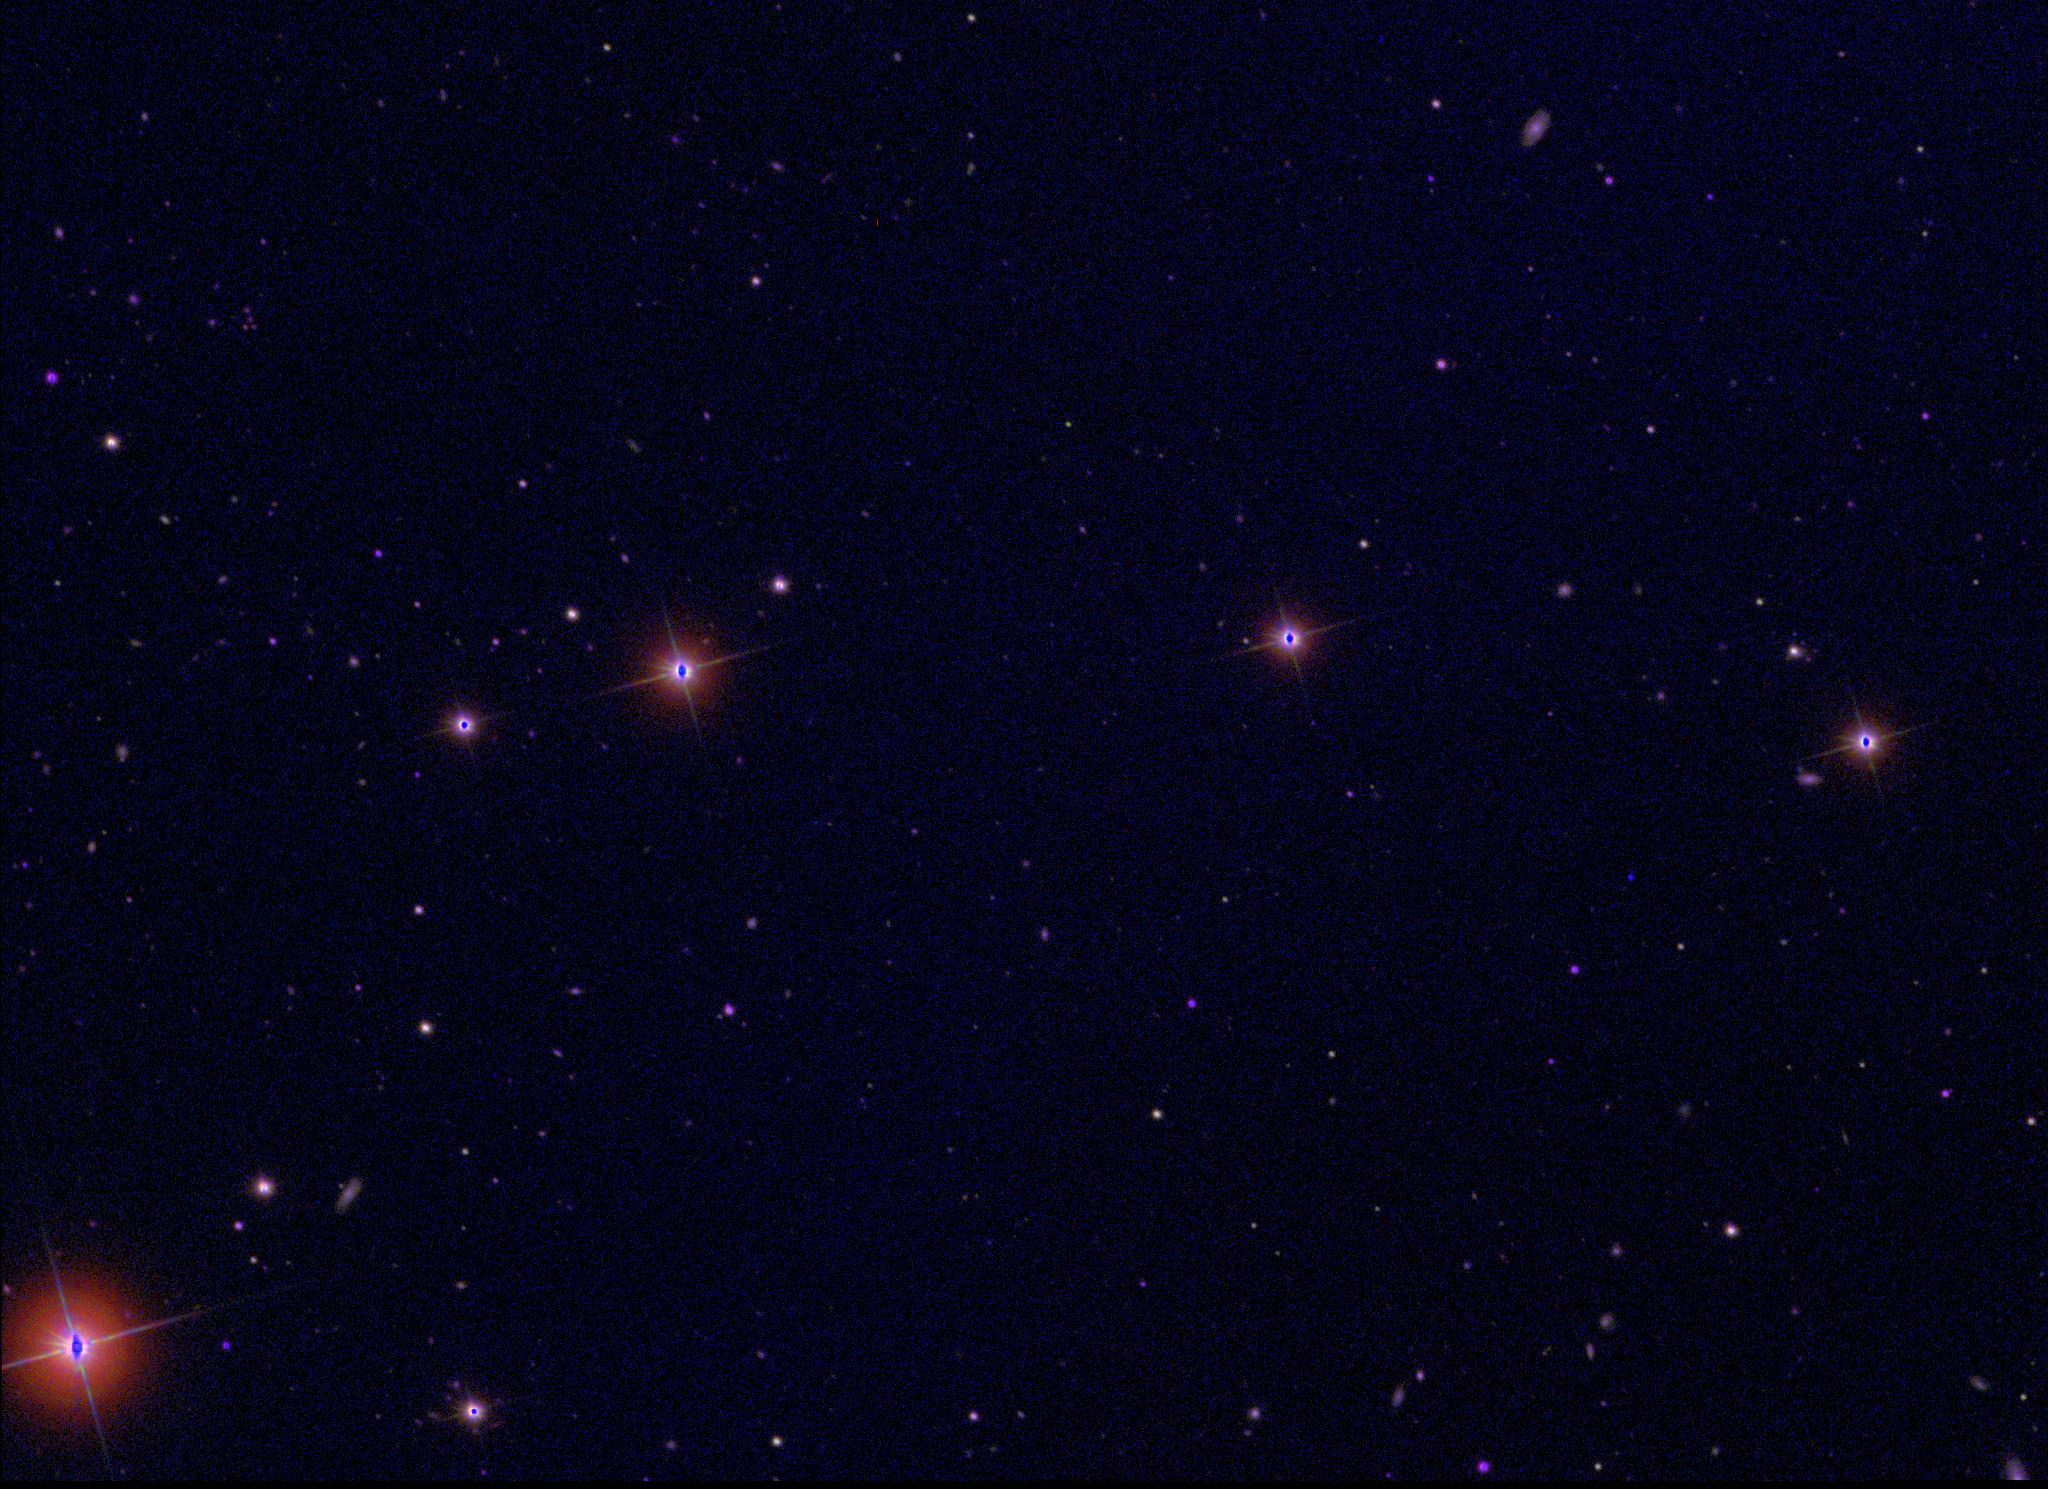L: (1623, 867, 1638, 881)
